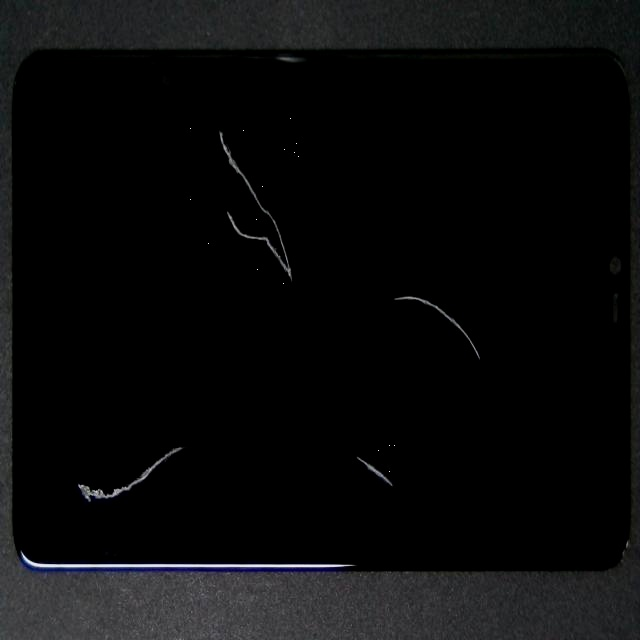scratch: (136, 109, 622, 507), (158, 248, 557, 640), (148, 151, 445, 453), (43, 199, 110, 640)
